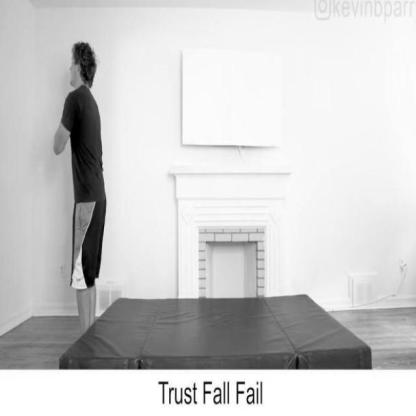person: (53, 32, 116, 327)
